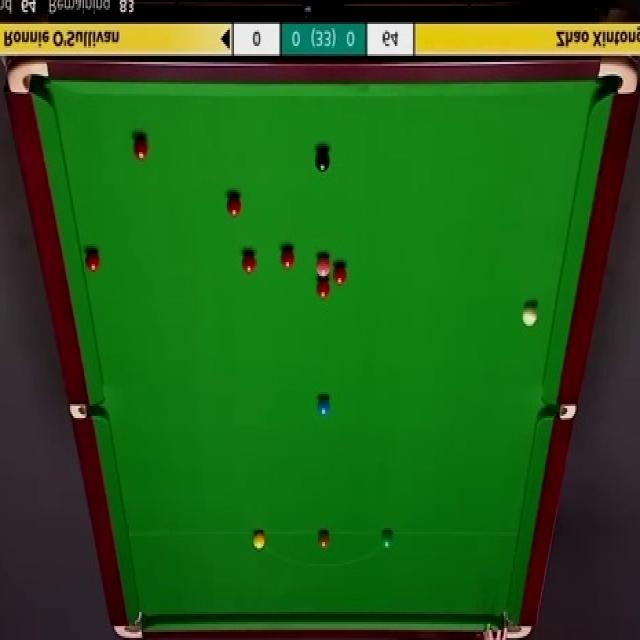black-ball: (314, 149, 330, 173)
blue-ball: (316, 398, 331, 415)
brown-ball: (318, 531, 329, 549)
green-ball: (380, 530, 395, 552)
pink-ball: (317, 254, 332, 276)
red-ball: (132, 138, 149, 162), (314, 278, 332, 300), (240, 252, 258, 274), (225, 195, 242, 218), (85, 248, 99, 272), (279, 250, 295, 269), (333, 264, 348, 283)
white-ball: (522, 304, 539, 328)
yellow-ball: (253, 530, 265, 550)
